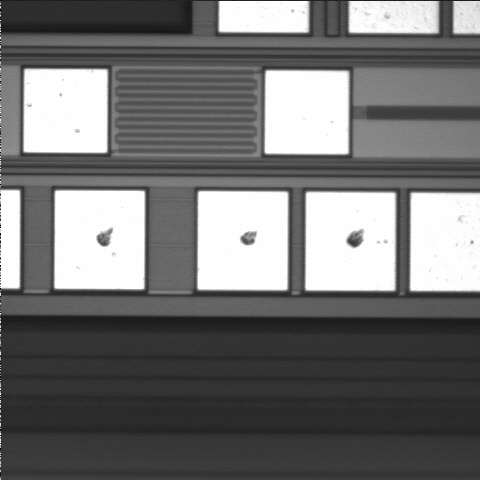pad: (198, 191, 288, 290), (306, 192, 396, 291), (55, 191, 145, 289), (24, 69, 107, 153), (265, 71, 349, 154)
